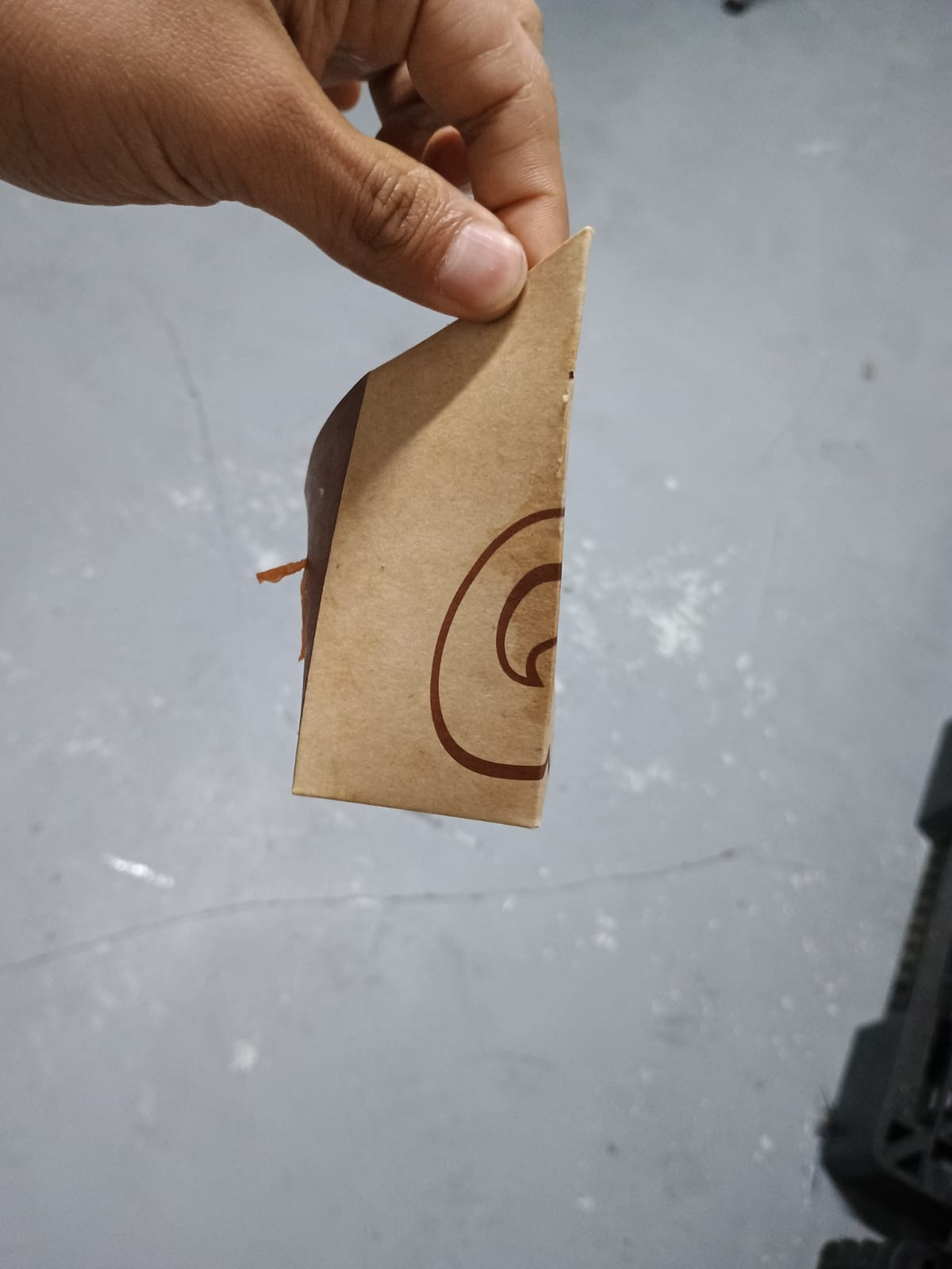Carton: (292, 214, 590, 830)
